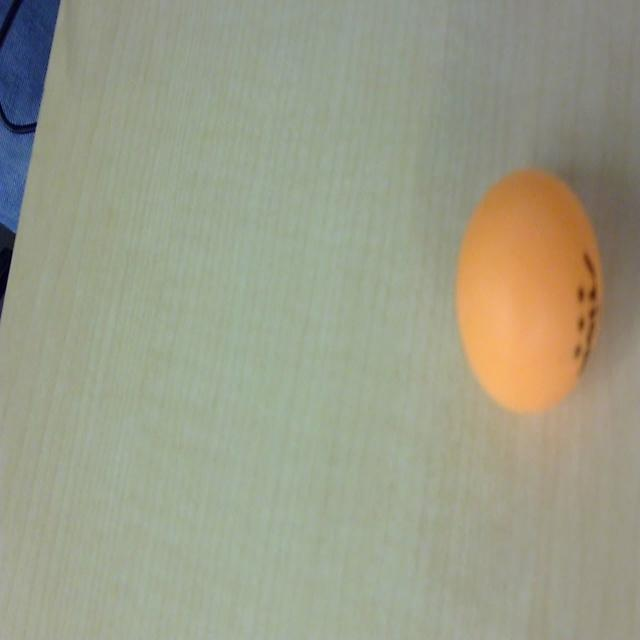ball: (454, 166, 604, 419)
